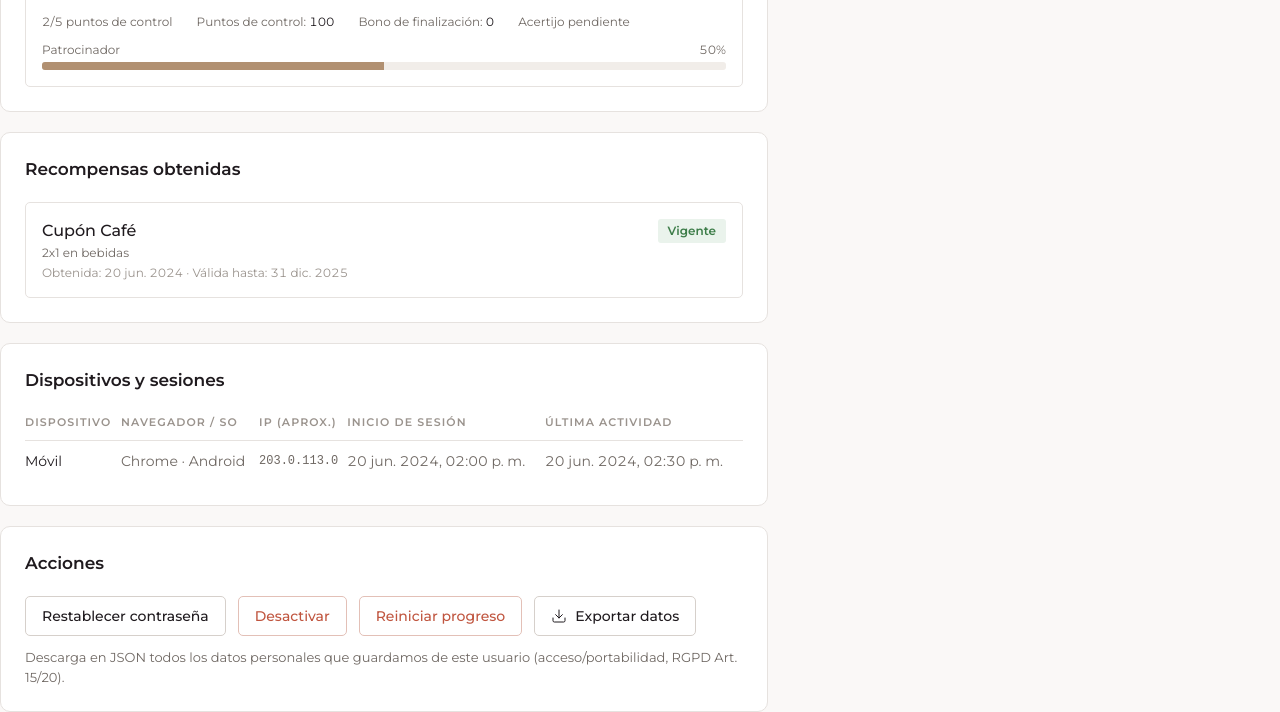
Test: UserDetail — lifecycle overview › exports user data as a downloadable JSON and toasts success
(page scrolled)
Click the button "Exportar datos" at [615, 616], box [534, 596, 696, 636]
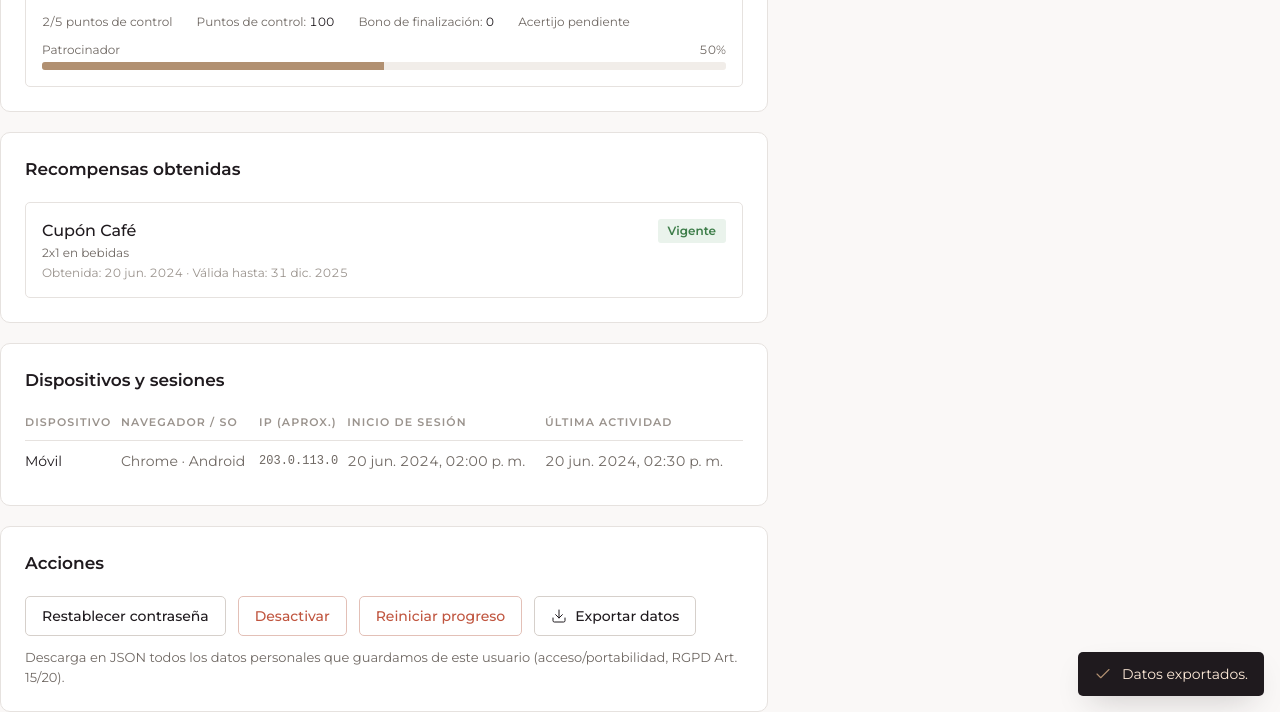
Now the text "Datos exportados." is shown, box [1078, 652, 1264, 696]
